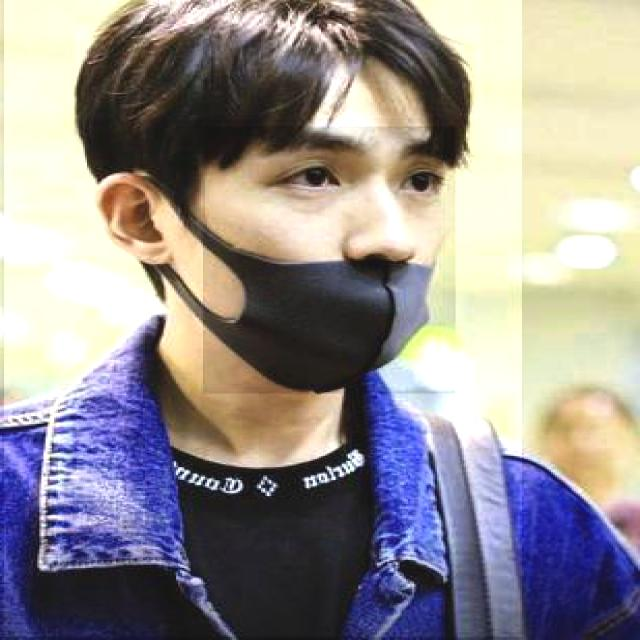face_mask: (203, 126, 456, 394)
head_nohelmet: (72, 24, 482, 120)
person: (2, 0, 522, 638)
